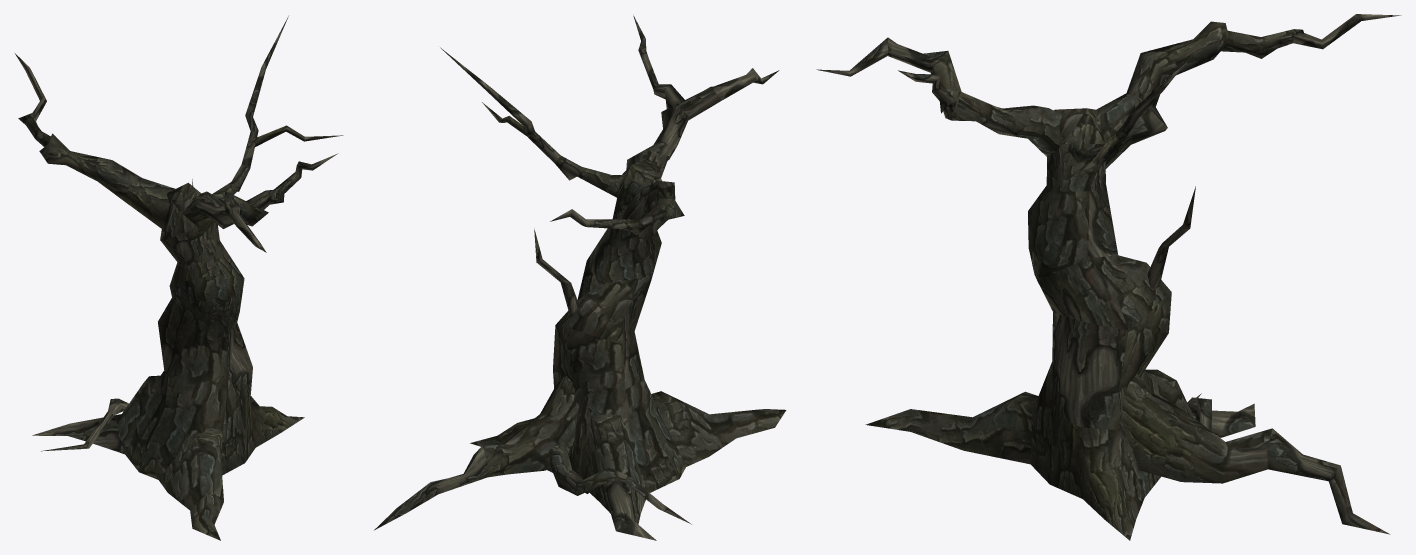
File: D_shu001.fbx
The picture shows the model from 3 angles, left to right: view 1: azimuth 30°, elevation 25°; view 2: azimuth 150°, elevation 25°; view 3: azimuth 270°, elevation 25°; orthographic projection. The views are drawn at different scales.
Parts seen in each view (by area): view 1: D_shu001; view 2: D_shu001; view 3: D_shu001.
Part boxes in pixels (x1,y1,x2,y2): D_shu001: (15, 16, 343, 540); D_shu001: (374, 15, 786, 540); D_shu001: (816, 14, 1401, 540).
Bounding box in the file's own units: 389 × 573 × 627.
